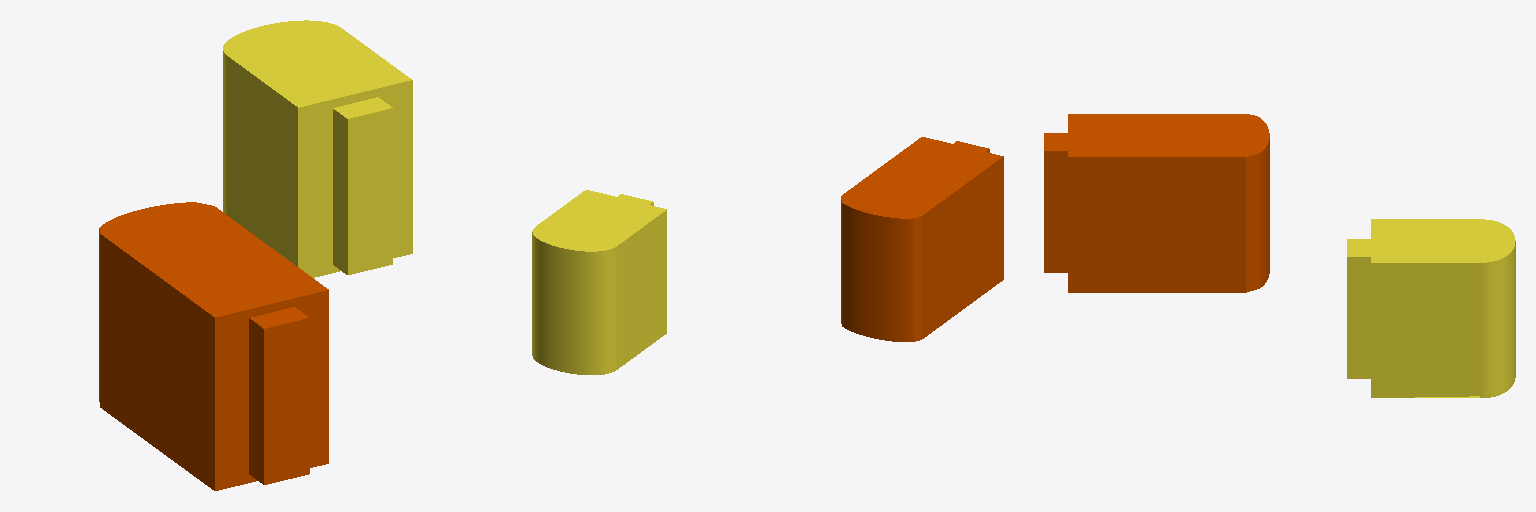
URDF robot description (3v3_40.35.25_30.30.40_1.1_53):
<?xml version="1.0" ?>
<robot name="3v3_40.35.25_30.30.40_1.1_53">

    <link name="palm">
        <visual>
            <origin rpy="0 0 0" xyz="0 0 0"/>
            <geometry>
                <mesh filename="obj_files/palm.obj" scale="1 1 1"/>
            </geometry>
        </visual>
        <collision>
            <geometry>
                <mesh filename="obj_files/palm_collision.obj" scale="1 1 1"/>
            </geometry>
        </collision>
    </link>

    <link name="finger0_segment0">
        <visual>
            <origin rpy="0 0 0" xyz="0 0 0"/>
            <geometry>
                <mesh filename="obj_files/finger0_segment0.obj" scale="1 1 1"/>
            </geometry>
        </visual>
        <collision>
            <geometry>
                <mesh filename="obj_files/finger0_segment0_collision.obj" scale="1 1 1"/>
            </geometry>
        </collision>
    </link>

    <joint name="finger0_segment0_joint" type="revolute">
        <parent link="palm"/>
        <child link="finger0_segment0"/>
        <origin rpy="0 0 0" xyz="0.02675 0 0.0"/>
        <axis xyz="0 0 1"/>
        <limit effort="1000.0" lower="-3.14" upper="3.14" velocity="0.5"/>
    </joint>

    <link name="finger0_segment1">
        <visual>
            <origin rpy="0 0 0" xyz="0 0 0"/>
            <geometry>
                <mesh filename="obj_files/finger0_segment1.obj" scale="1 1 1"/>
            </geometry>
        </visual>
        <collision>
            <geometry>
                <mesh filename="obj_files/finger0_segment1_collision.obj" scale="1 1 1"/>
            </geometry>
        </collision>
    </link>

    <joint name="finger0_segment1_joint" type="revolute">
        <parent link="finger0_segment0"/>
        <child link="finger0_segment1"/>
        <origin rpy="0 0 0" xyz="0 0.0576 0"/>
        <axis xyz="0 0 1"/>
        <limit effort="1000.0" lower="-3.14" upper="3.14" velocity="0.5"/>
    </joint>

    <link name="finger0_segment2">
        <visual>
            <origin rpy="0 0 0" xyz="0 0 0"/>
            <geometry>
                <mesh filename="obj_files/finger0_segment2.obj" scale="1 1 1"/>
            </geometry>
        </visual>
        <collision>
            <geometry>
                <mesh filename="obj_files/finger0_segment2_collision.obj" scale="1 1 1"/>
            </geometry>
        </collision>
    </link>

    <joint name="finger0_segment2_joint" type="revolute">
        <parent link="finger0_segment1"/>
        <child link="finger0_segment2"/>
        <origin rpy="0 0 0" xyz="0 0.0504 0"/>
        <axis xyz="0 0 1"/>
        <limit effort="1000.0" lower="-3.14" upper="3.14" velocity="0.5"/>
    </joint>

    <link name="finger1_segment0">
        <visual>
            <origin rpy="0 0 0" xyz="0 0 0"/>
            <geometry>
                <mesh filename="obj_files/finger1_segment0.obj" scale="1 1 1"/>
            </geometry>
        </visual>
        <collision>
            <geometry>
                <mesh filename="obj_files/finger1_segment0_collision.obj" scale="1 1 1"/>
            </geometry>
        </collision>
    </link>

    <joint name="finger1_segment0_joint" type="revolute">
        <parent link="palm"/>
        <child link="finger1_segment0"/>
        <origin rpy="0 0 0" xyz="-0.02675 0 3.27593018771917e-18"/>
        <axis xyz="0 0 1"/>
        <limit effort="1000.0" lower="-3.14" upper="3.14" velocity="0.5"/>
    </joint>

    <link name="finger1_segment1">
        <visual>
            <origin rpy="0 0 0" xyz="0 0 0"/>
            <geometry>
                <mesh filename="obj_files/finger1_segment1.obj" scale="1 1 1"/>
            </geometry>
        </visual>
        <collision>
            <geometry>
                <mesh filename="obj_files/finger1_segment1_collision.obj" scale="1 1 1"/>
            </geometry>
        </collision>
    </link>

    <joint name="finger1_segment1_joint" type="revolute">
        <parent link="finger1_segment0"/>
        <child link="finger1_segment1"/>
        <origin rpy="0 0 0" xyz="0 0.043199999999999995 0"/>
        <axis xyz="0 0 1"/>
        <limit effort="1000.0" lower="-3.14" upper="3.14" velocity="0.5"/>
    </joint>

    <link name="finger1_segment2">
        <visual>
            <origin rpy="0 0 0" xyz="0 0 0"/>
            <geometry>
                <mesh filename="obj_files/finger1_segment2.obj" scale="1 1 1"/>
            </geometry>
        </visual>
        <collision>
            <geometry>
                <mesh filename="obj_files/finger1_segment2_collision.obj" scale="1 1 1"/>
            </geometry>
        </collision>
    </link>

    <joint name="finger1_segment2_joint" type="revolute">
        <parent link="finger1_segment1"/>
        <child link="finger1_segment2"/>
        <origin rpy="0 0 0" xyz="0 0.043199999999999995 0"/>
        <axis xyz="0 0 1"/>
        <limit effort="1000.0" lower="-3.14" upper="3.14" velocity="0.5"/>
    </joint>

</robot>

--- Facts derived from the render (not from the file) ---
The picture shows the robot from 3 angles, left to right: view 1: azimuth 30°, elevation 25°; view 2: azimuth 150°, elevation 25°; view 3: azimuth 270°, elevation 25°; orthographic projection.
Robot: 3v3_40.35.25_30.30.40_1.1_53 — 7 links, 6 joints (6 revolute); root link palm; default pose: all joints at 0.
Visible links, largest first — view 1: finger1_segment1, finger0_segment2; view 2: finger1_segment1, finger0_segment2; view 3: finger1_segment1, finger0_segment2.
Link boxes in pixels (x1=…): finger1_segment1: x1=99, y1=202, x2=328, y2=490; finger0_segment2: x1=223, y1=20, x2=412, y2=277; finger1_segment1: x1=841, y1=137, x2=1003, y2=341; finger0_segment2: x1=532, y1=190, x2=666, y2=374; finger1_segment1: x1=1044, y1=114, x2=1269, y2=292; finger0_segment2: x1=1347, y1=219, x2=1515, y2=397.
Bounding box of the posed robot: 0.0755 × 0.1008 × 0.032 m (x, y, z).
2 mesh visuals loaded from 7 distinct referenced files (2 OBJ); not drawn: 5 (reference not matched to a file when rendering).